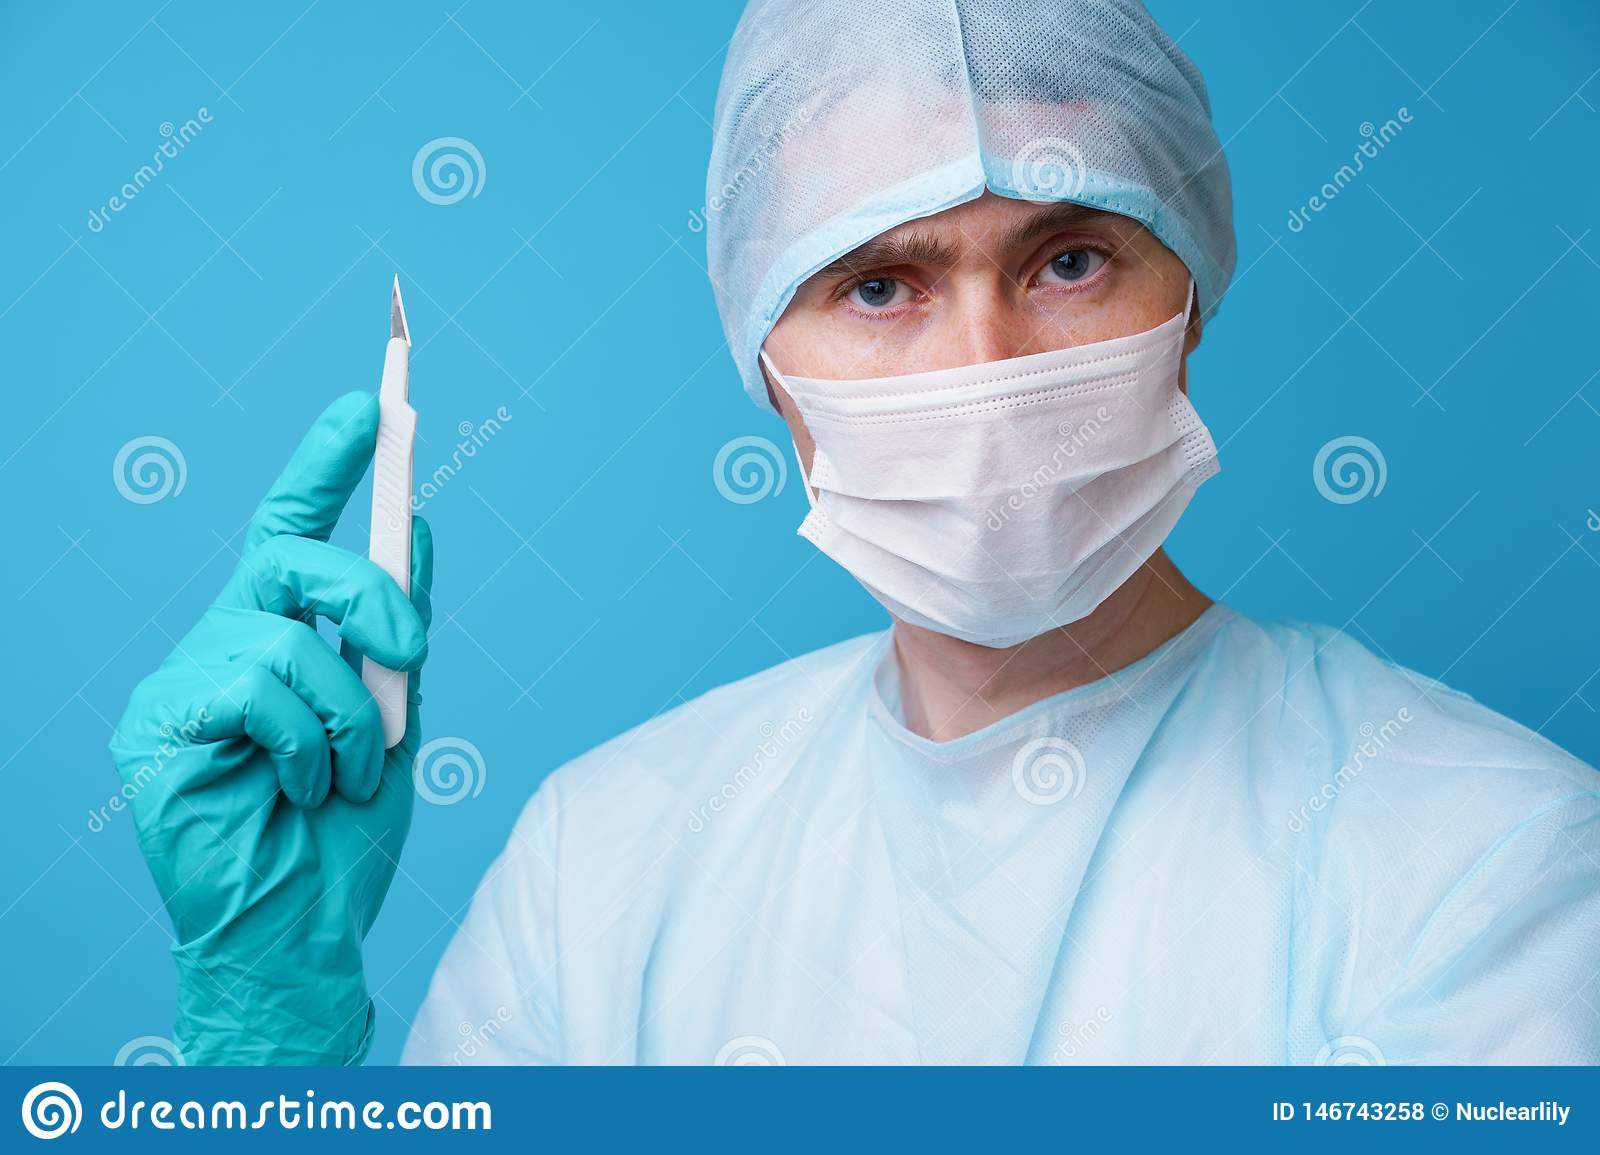mask: (783, 365, 1209, 623)
